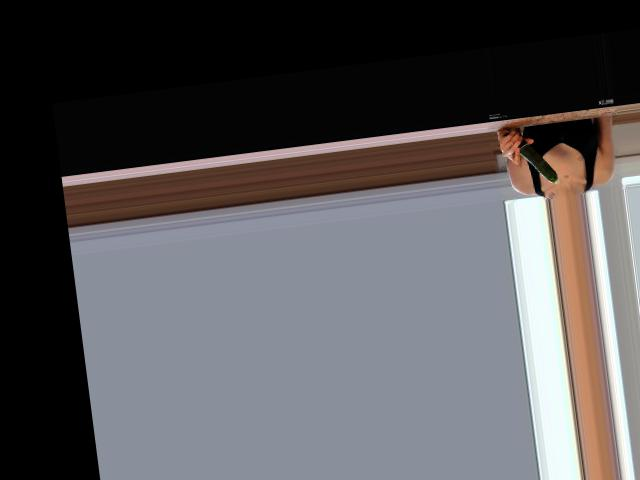cucumber: (503, 126, 558, 189)
